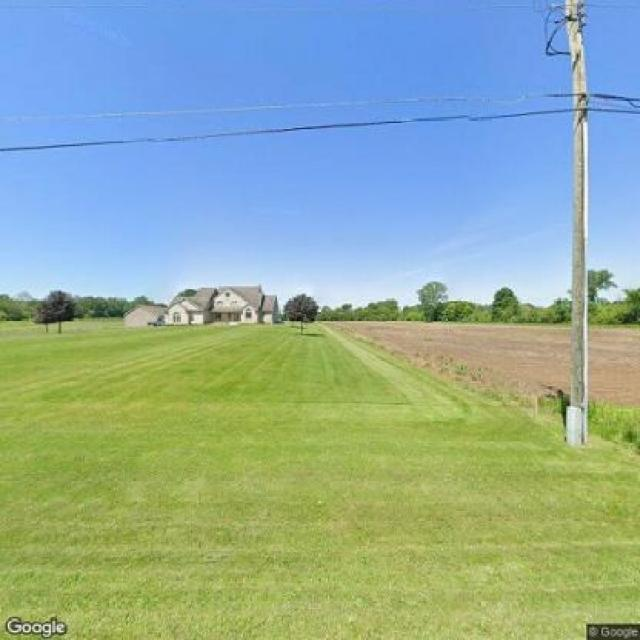pole: (527, 0, 622, 446)
